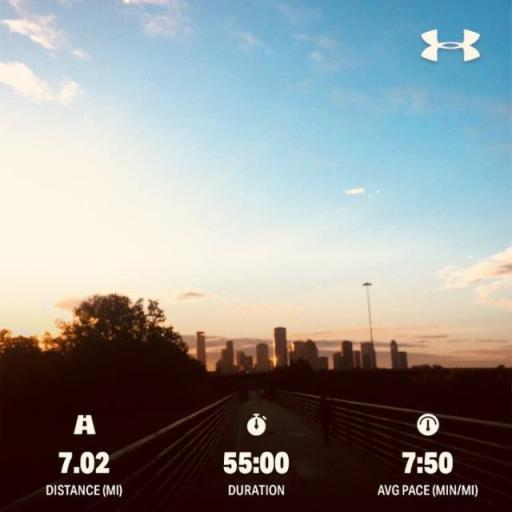Under Armour: (415, 26, 484, 64)
